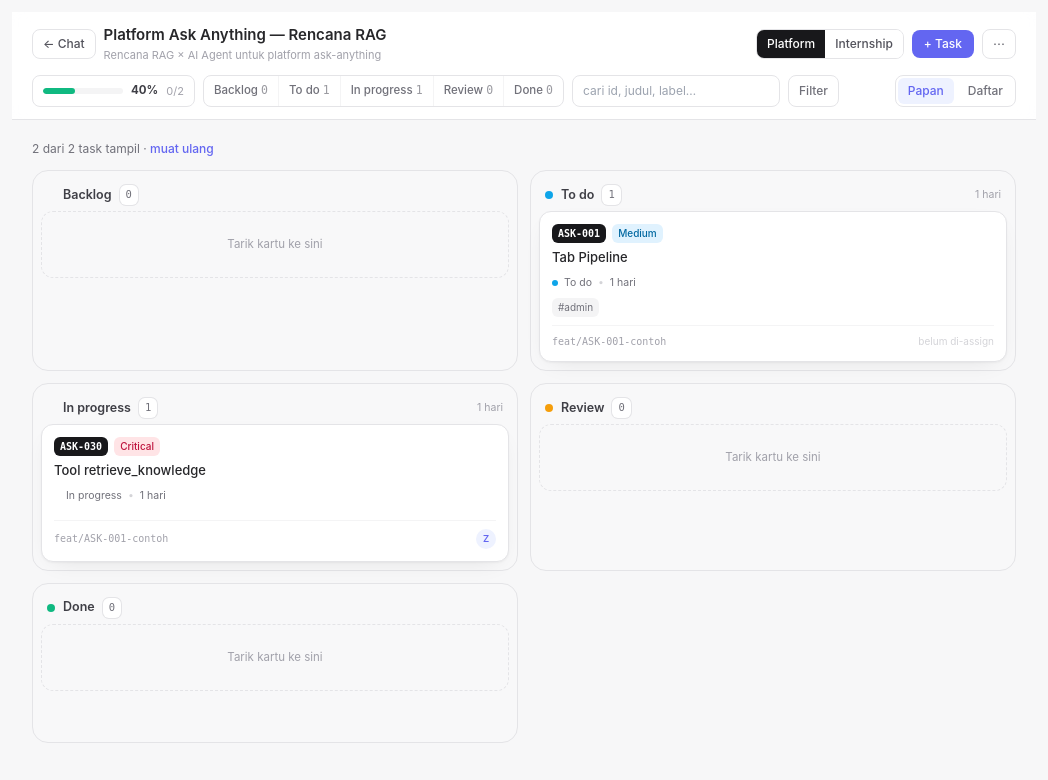
Test: TasksConsole — halaman /tasks › sync git melaporkan berapa task yang berubah
Expected: the heading "Tab Pipeline" is shown, [552, 249, 628, 265]
Click the button named "Aksi papan" at (999, 44), box [982, 28, 1016, 58]
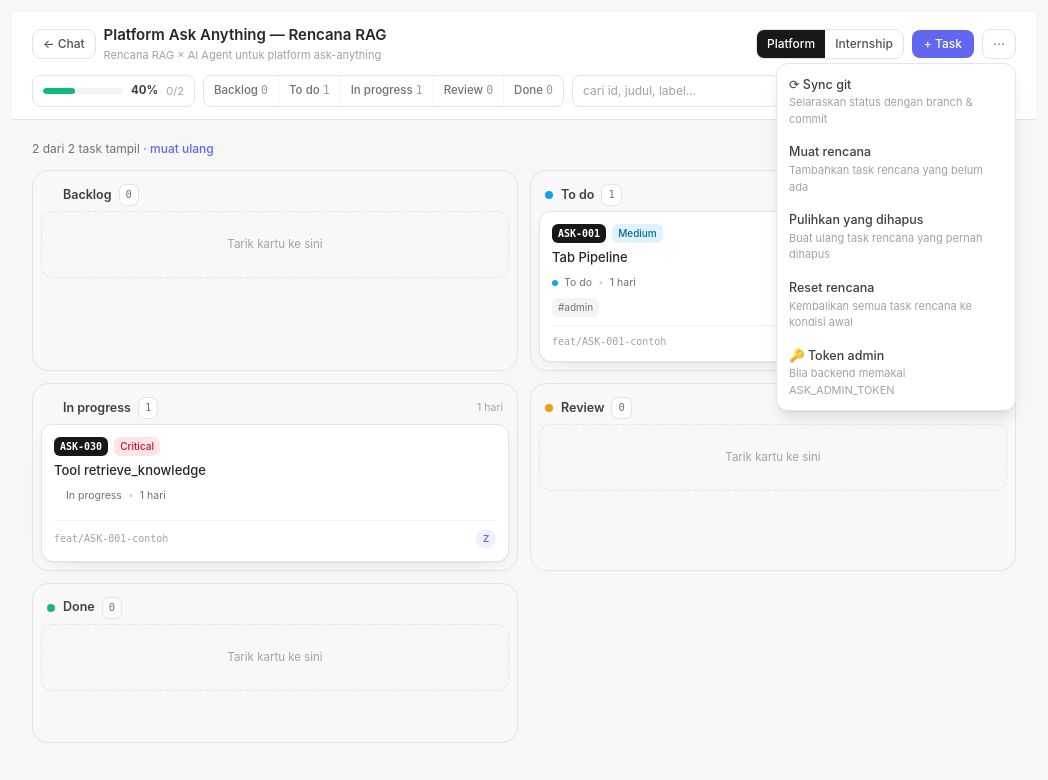
Click the text "⟳ Sync git" at (820, 84), box [789, 76, 851, 92]
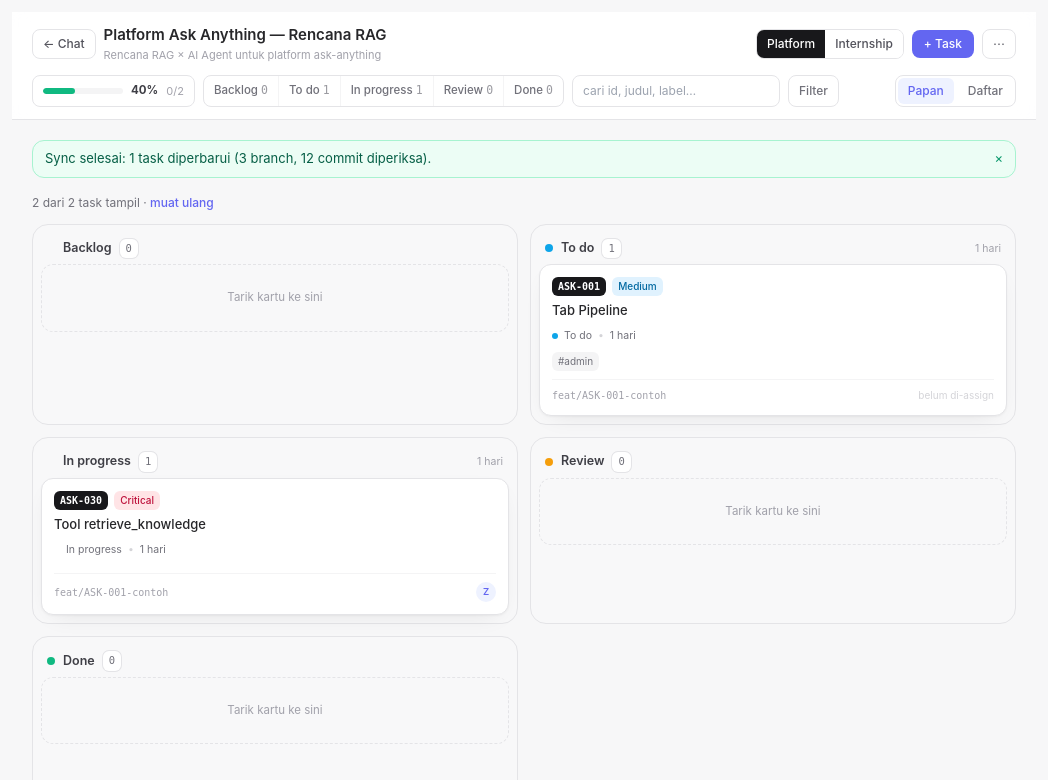
Expected: the text "Sync selesai: 1 task diperbarui" is shown, [45, 150, 431, 166]
